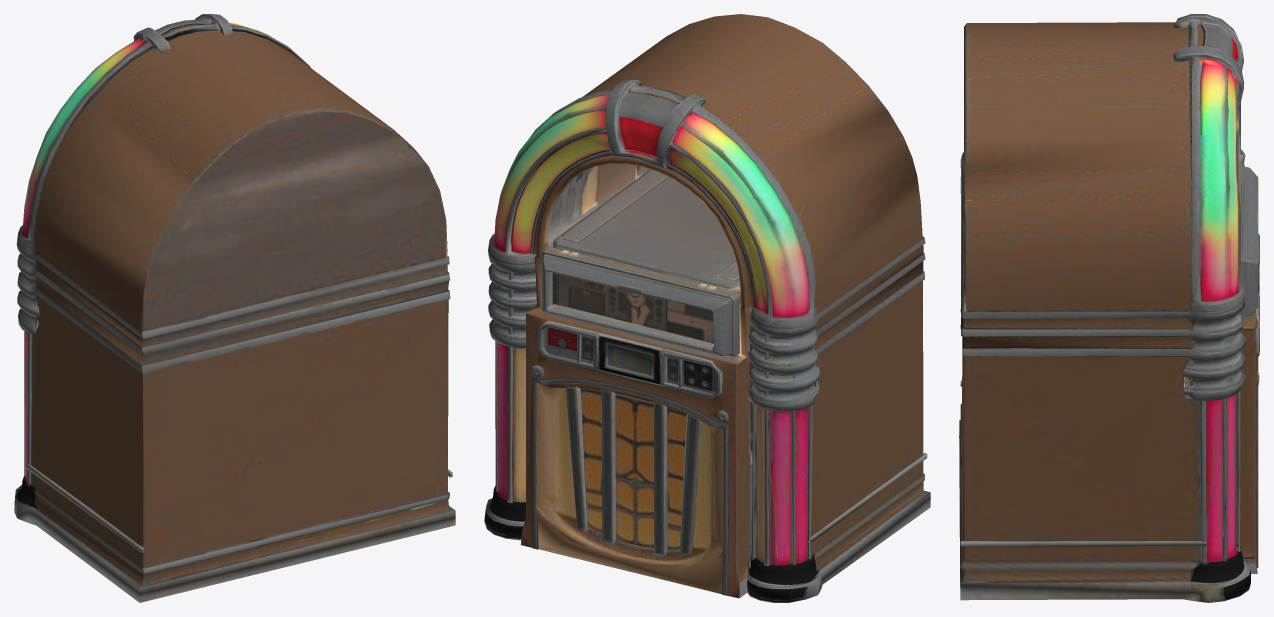
The model's file is office-jukebox.glb.
The picture shows the model from 3 angles, left to right: view 1: azimuth 30°, elevation 25°; view 2: azimuth 150°, elevation 25°; view 3: azimuth 270°, elevation 25°; orthographic projection. The views are drawn at different scales.
Visible parts, largest first — view 1: jukebox; view 2: jukebox; view 3: jukebox.
Part boxes in pixels (box(x1,y1,x2,y2)): jukebox: box(14, 14, 455, 602); jukebox: box(484, 14, 930, 602); jukebox: box(959, 14, 1259, 602).
Bounding box in the file's own units: 1.2 × 1.6 × 0.8944.
Materials: 1 (1 with a texture image).
